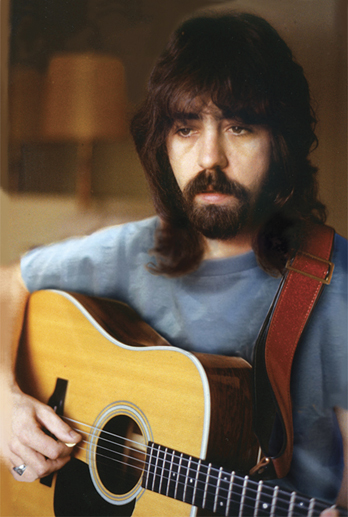guitar: (2, 288, 346, 517)
